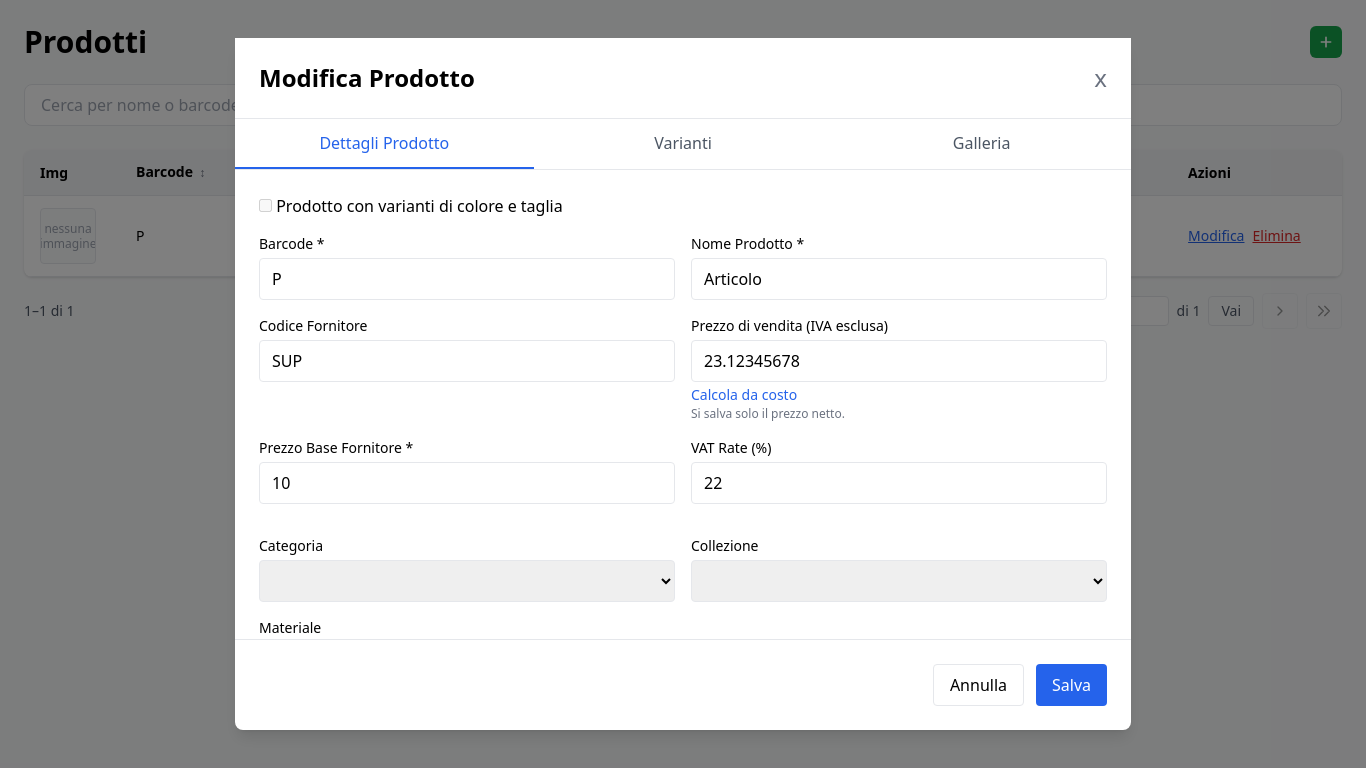
Test: ProdottiComponent stored selling prices › shows a link to the formula settings when the formula is not configured
Click the button with aria-label "Calcola prezzo prodotto da costo" at (744, 395), box [691,385,797,405]
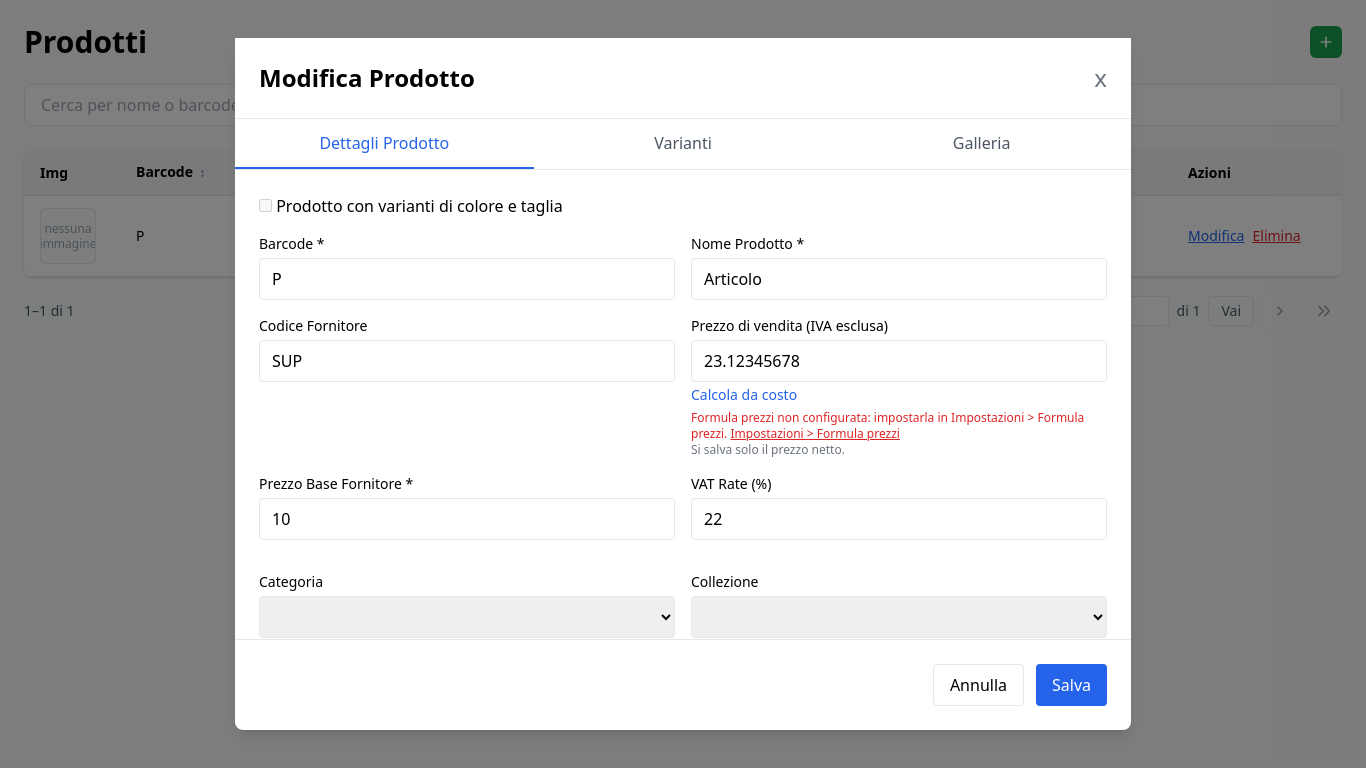
Check: the element with test id "price-error" shows "Formula prezzi non configurata", box [691,409,1084,442]
